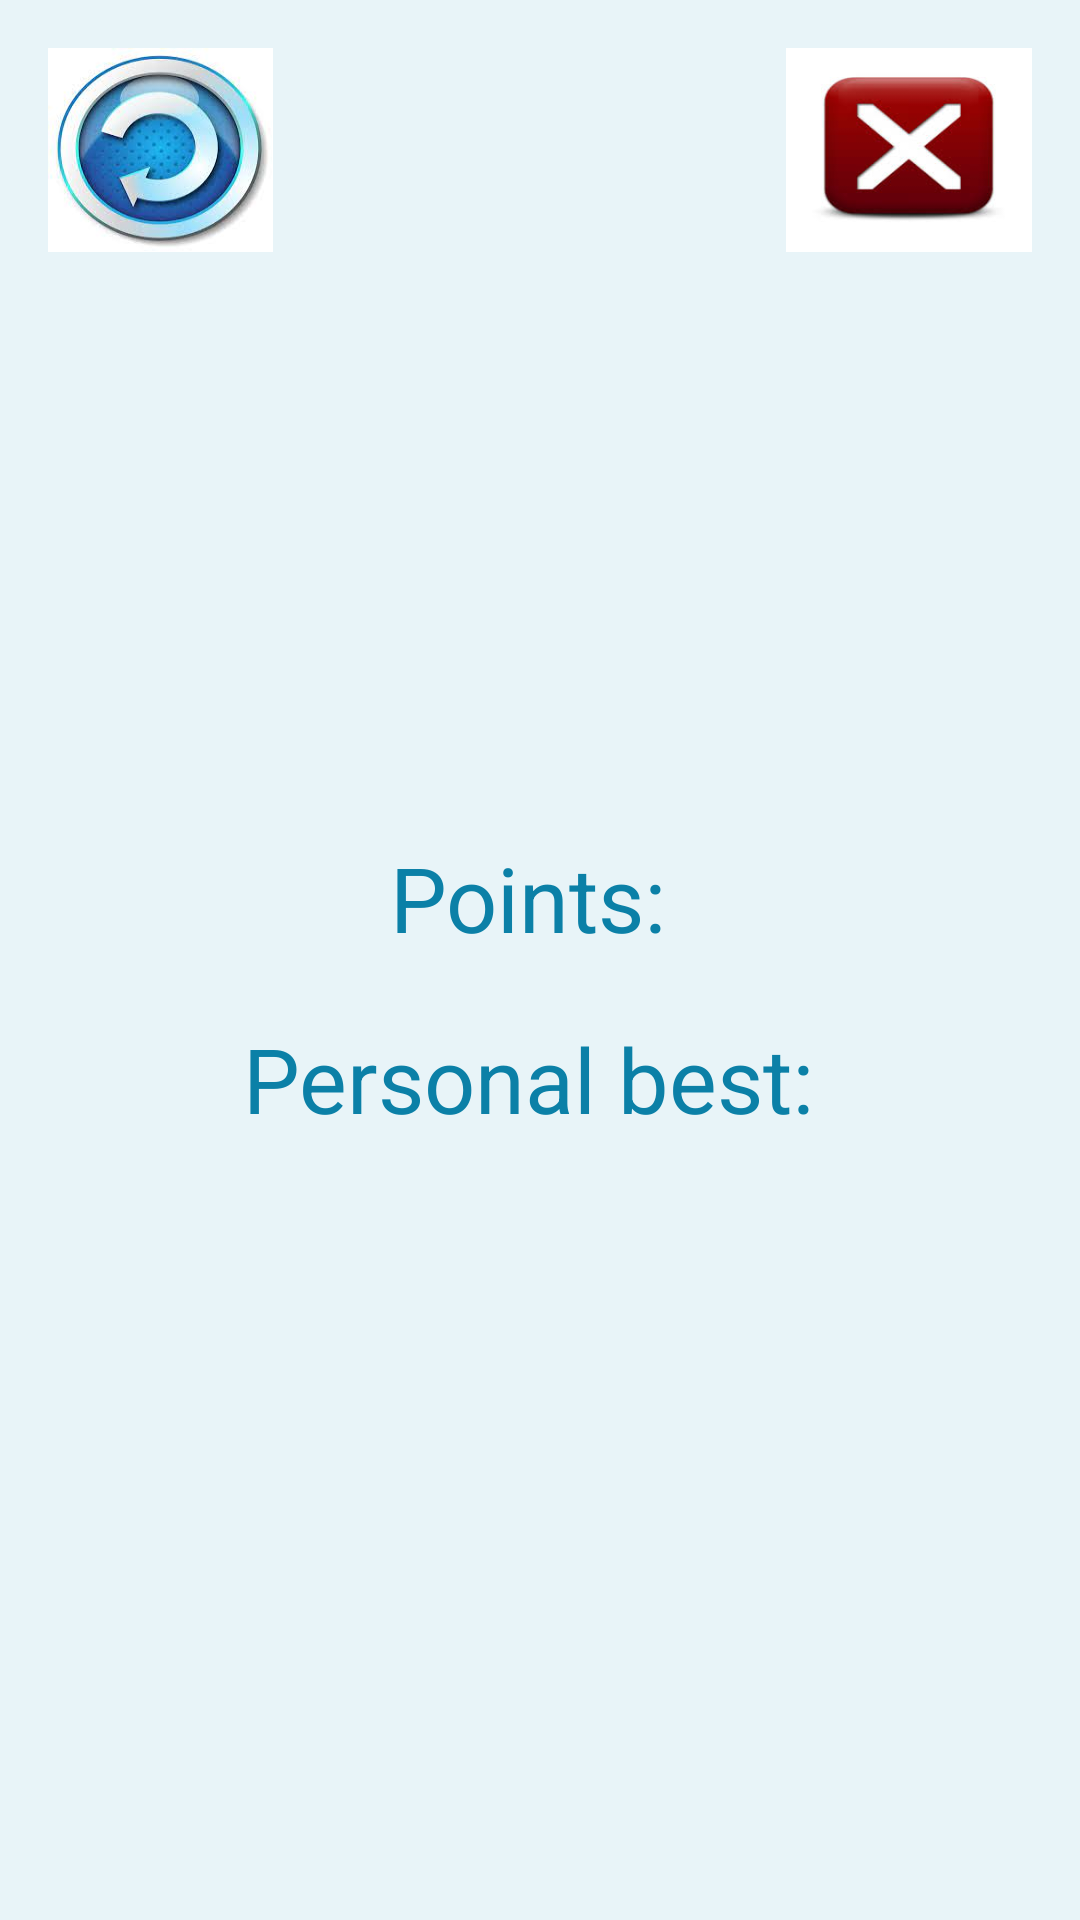

Where to tap for icons on this 1080 × 1920 app screen, as (x,y):
exit: (909,148)
restart: (161,150)
